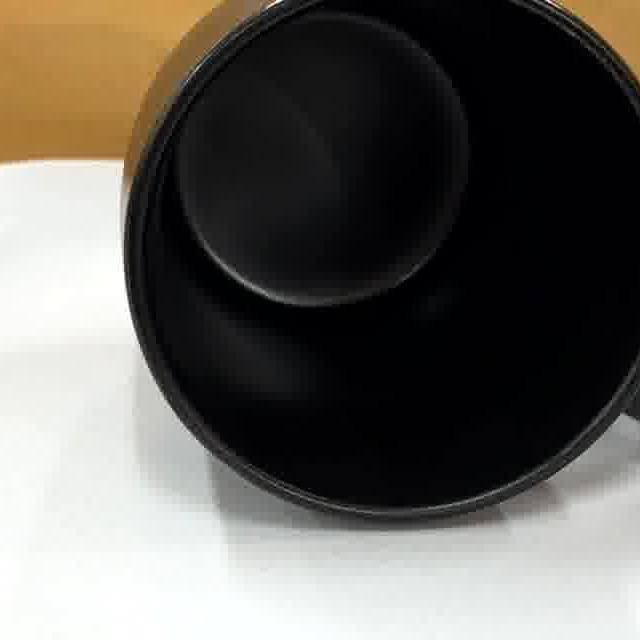cup: (125, 0, 640, 525)
